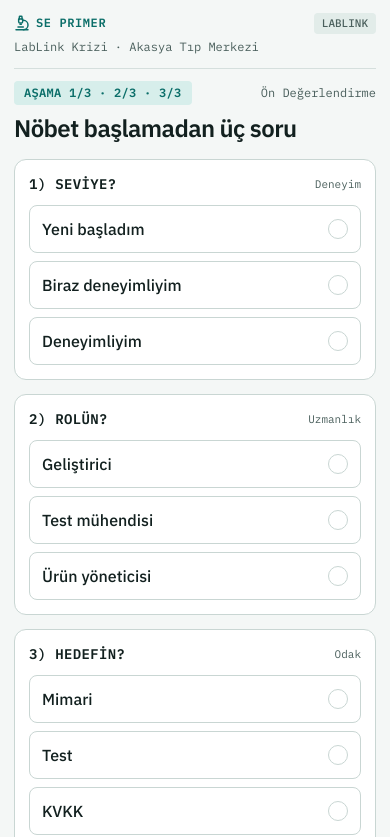
Scenario: KÖ-1: Yeni başladım › ipucu butonu var, süre çubuğu yok
Click the radio button with test id "level-yeni": (93, 229) [29,205,361,253]
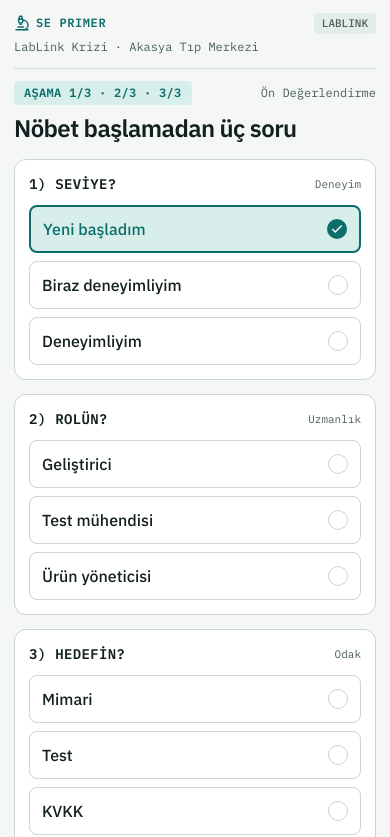
Click the radio button labelled "Geliştirici": (77, 464) [29,440,361,488]
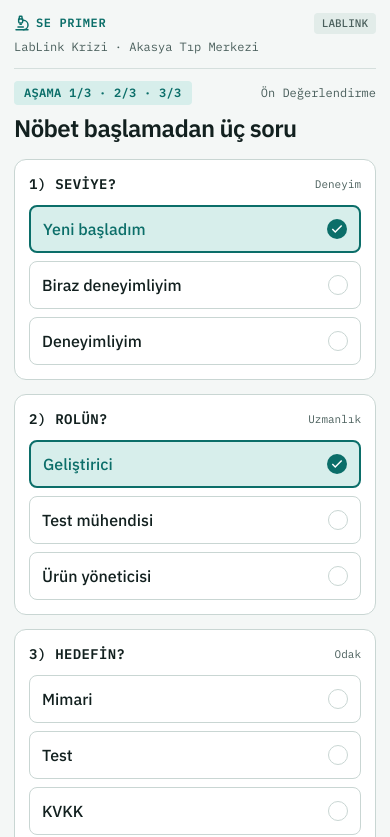
Click the radio button labelled "Mimari": (67, 699) [29,675,361,723]
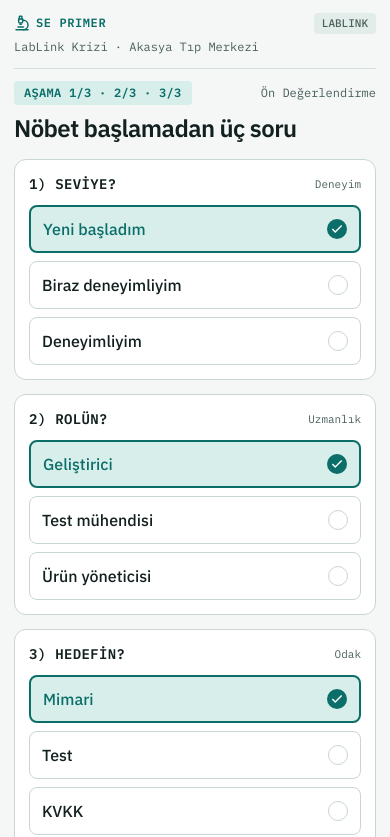
Scroll
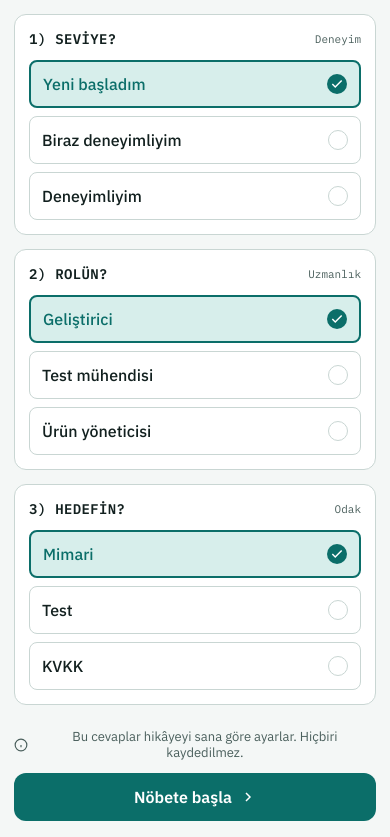
Click the button with test id "start-btn": (195, 797) [14,773,376,821]
(page scrolled)
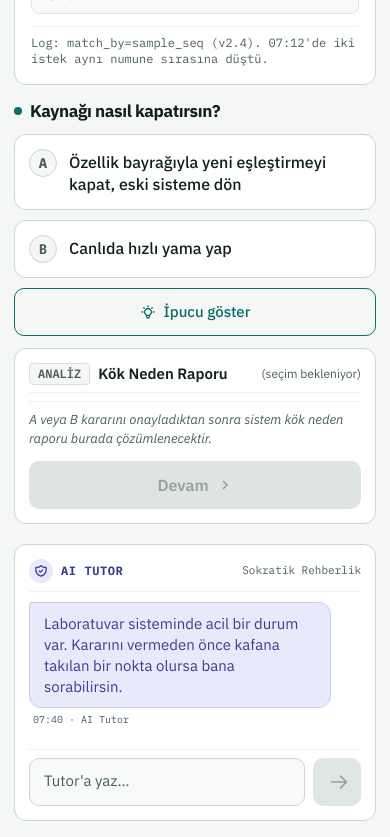
Check: the button with test id "hint-btn" is shown, box [14,288,376,336]
